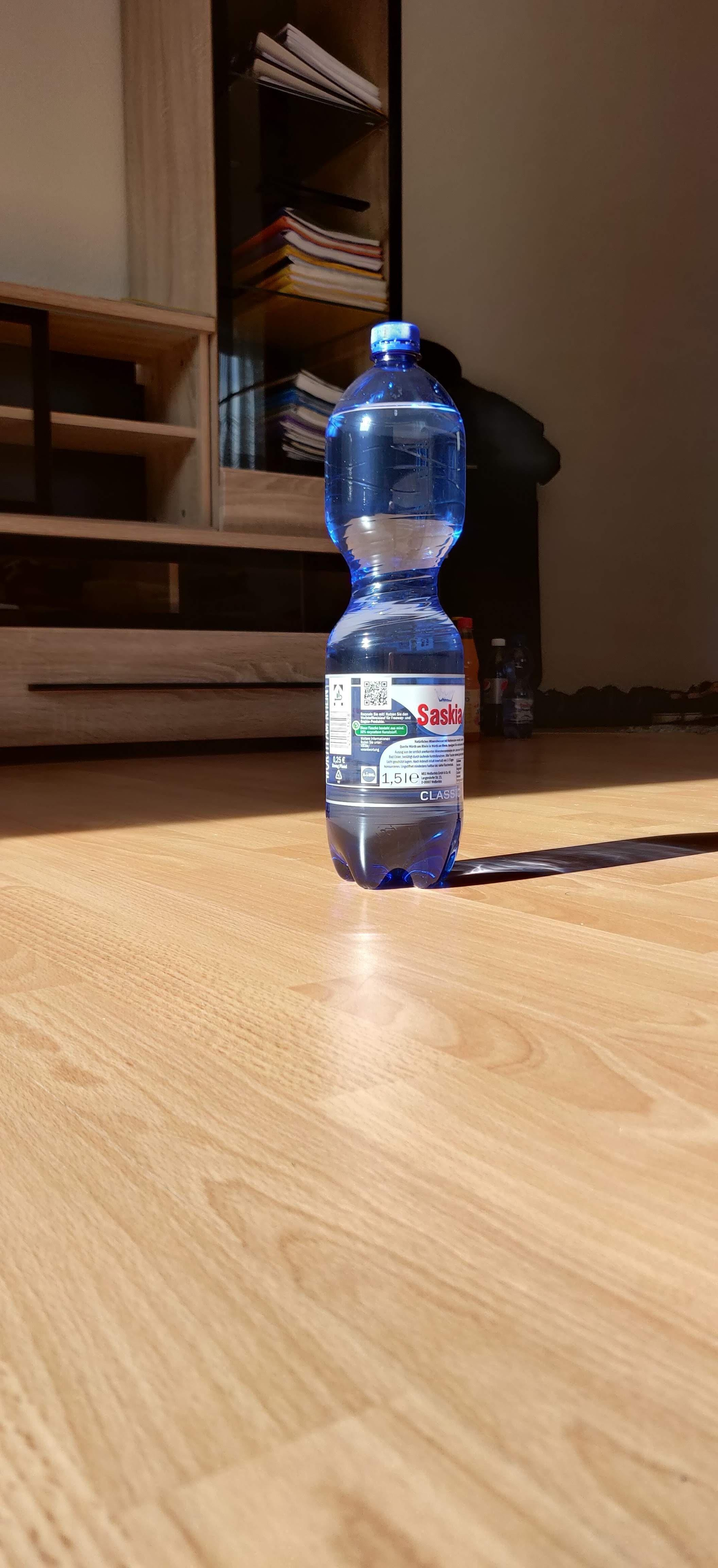bottle-plastic: (321, 317, 472, 890)
